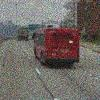buses: (36, 27, 84, 67)
